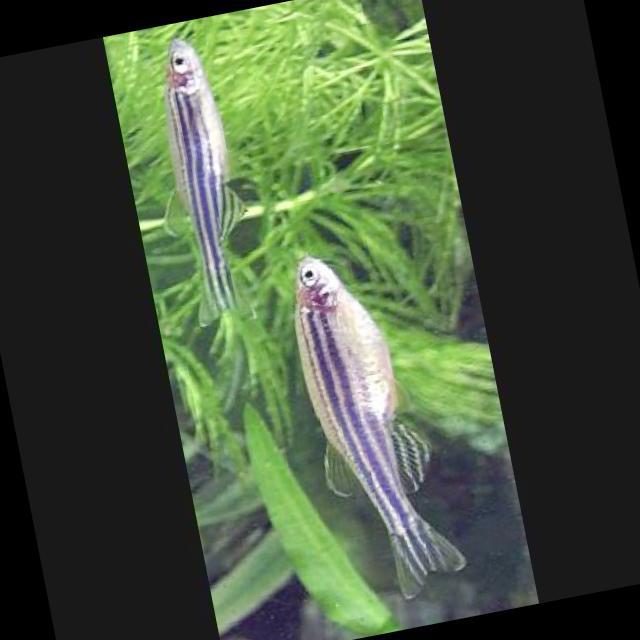ZebraFish: (277, 236, 469, 610), (126, 29, 262, 328)
